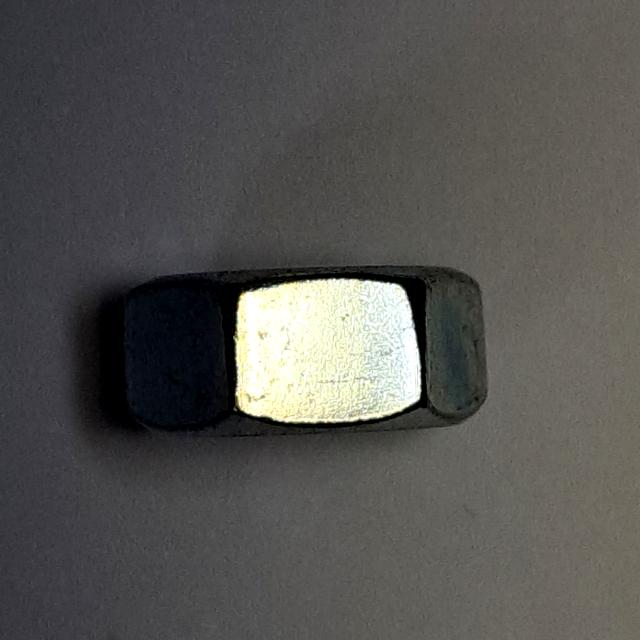Side_Excellent: (106, 252, 516, 461)
